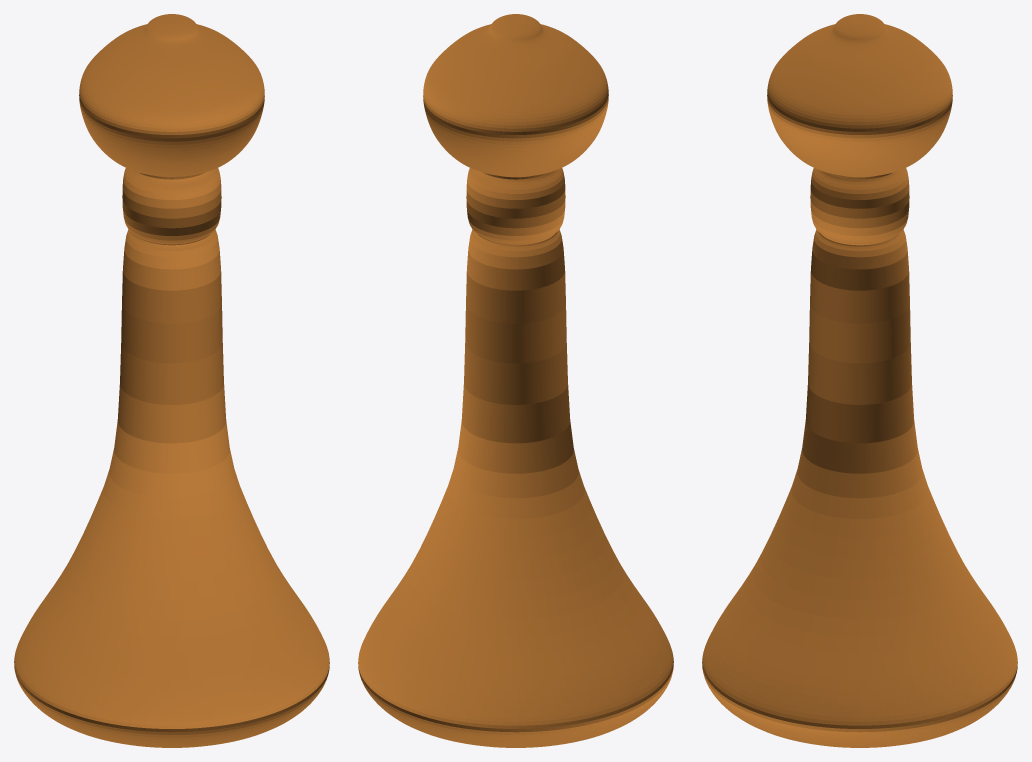
Rendered from Bishop.obj.
The picture shows the model from 3 angles, left to right: view 1: azimuth 30°, elevation 25°; view 2: azimuth 150°, elevation 25°; view 3: azimuth 270°, elevation 25°; orthographic projection.
Visible parts, largest first — view 1: Bishop; view 2: Bishop; view 3: Bishop.
Part boxes in pixels (left/top/right/bottom): Bishop: left=14, top=14, right=329, bottom=747; Bishop: left=358, top=14, right=673, bottom=747; Bishop: left=702, top=14, right=1017, bottom=747.
Bounding box in the file's own units: 1.73 × 4.17 × 1.73.
